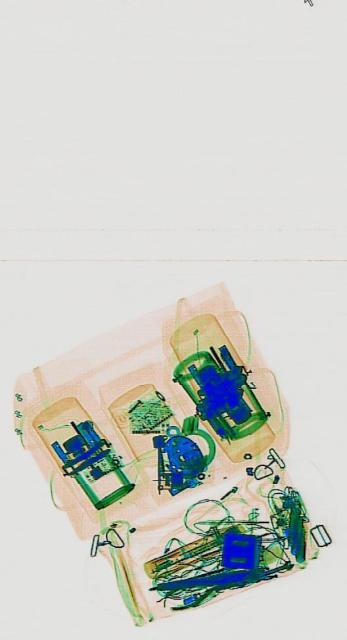Pliers: (160, 561, 243, 615)
